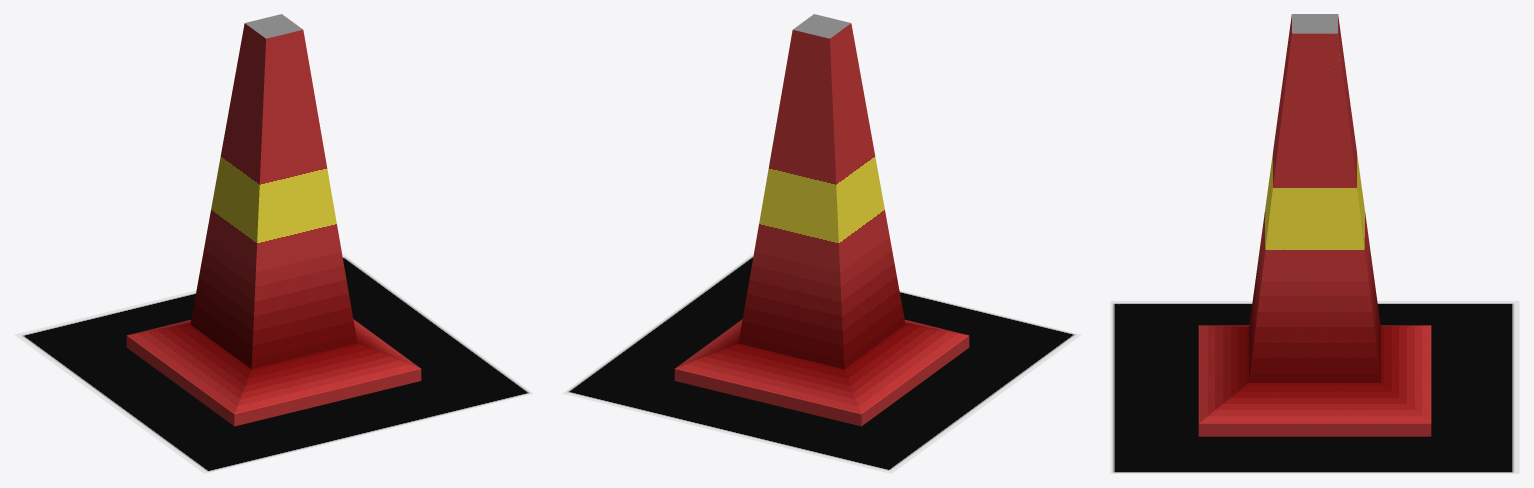
The model's file is traffic_cone.FBX.
3 renders of one model, left to right at view 1: azimuth 30°, elevation 25°; view 2: azimuth 150°, elevation 25°; view 3: azimuth 270°, elevation 25°, orthographic. The views are drawn at different scales.
Visible parts, largest first — view 1: traffic_cone, traffic_cone_soft_shadow, traffic_cone_shadow_caster; view 2: traffic_cone, traffic_cone_soft_shadow, traffic_cone_shadow_caster; view 3: traffic_cone, traffic_cone_soft_shadow, traffic_cone_shadow_caster.
Part boxes in pixels (x1,y1,x2,y2): traffic_cone: [126, 23, 421, 426]; traffic_cone_soft_shadow: [14, 254, 533, 473]; traffic_cone_shadow_caster: [245, 14, 302, 38]; traffic_cone: [674, 23, 969, 426]; traffic_cone_soft_shadow: [562, 254, 1081, 473]; traffic_cone_shadow_caster: [793, 14, 850, 38]; traffic_cone: [1198, 14, 1431, 436]; traffic_cone_soft_shadow: [1110, 301, 1519, 473]; traffic_cone_shadow_caster: [1292, 14, 1340, 74].
Bounding box in the file's own units: 458 × 459 × 458.
